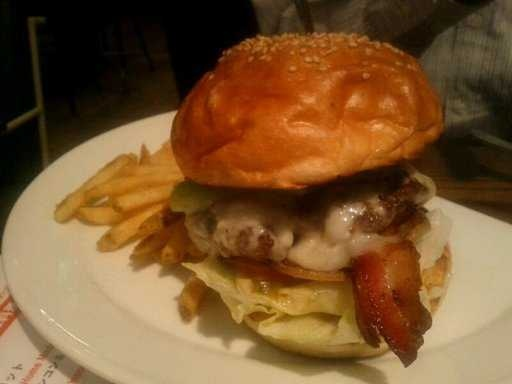hamburger: (161, 25, 459, 371)
